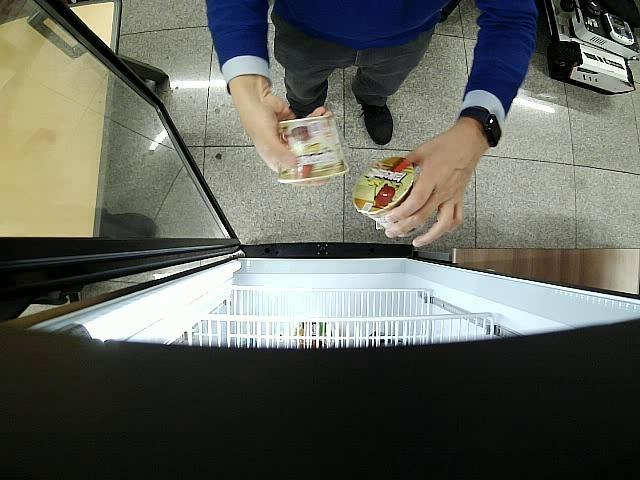04_chapagetti_S: (353, 156, 425, 237), (278, 116, 350, 183)
